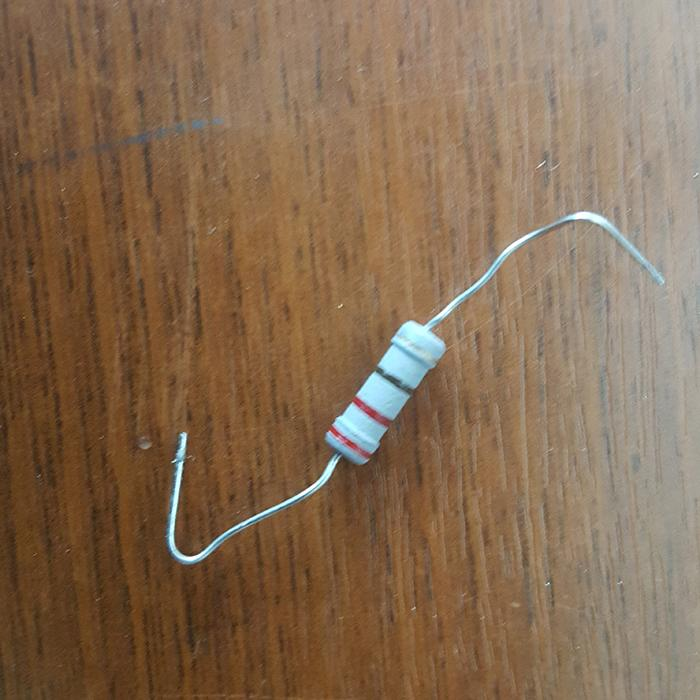resistor: (325, 319, 445, 463)
